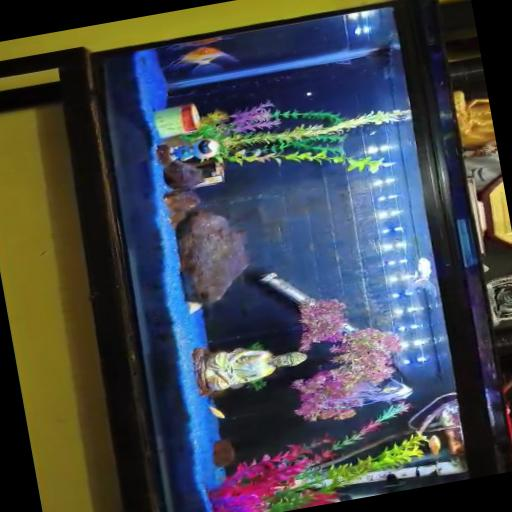Fish: (323, 379, 411, 410), (168, 47, 236, 74), (407, 258, 436, 296), (167, 36, 230, 50), (426, 436, 440, 455), (209, 406, 224, 418)
